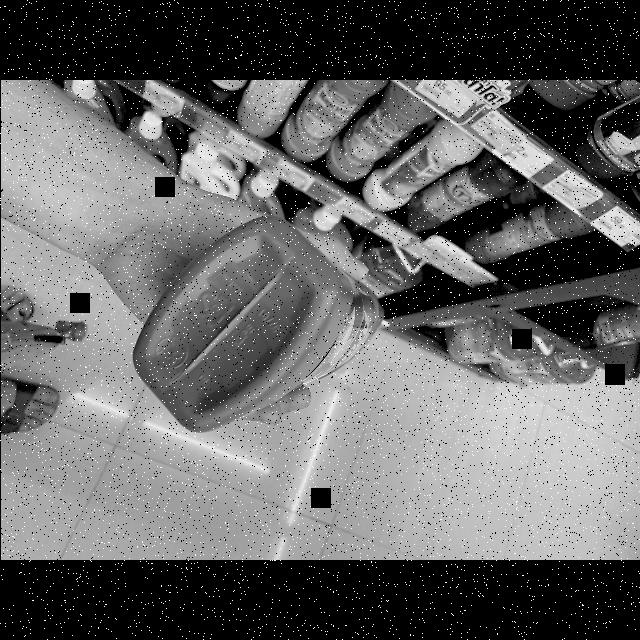chemical_plastic_bottle: (121, 205, 387, 438)
